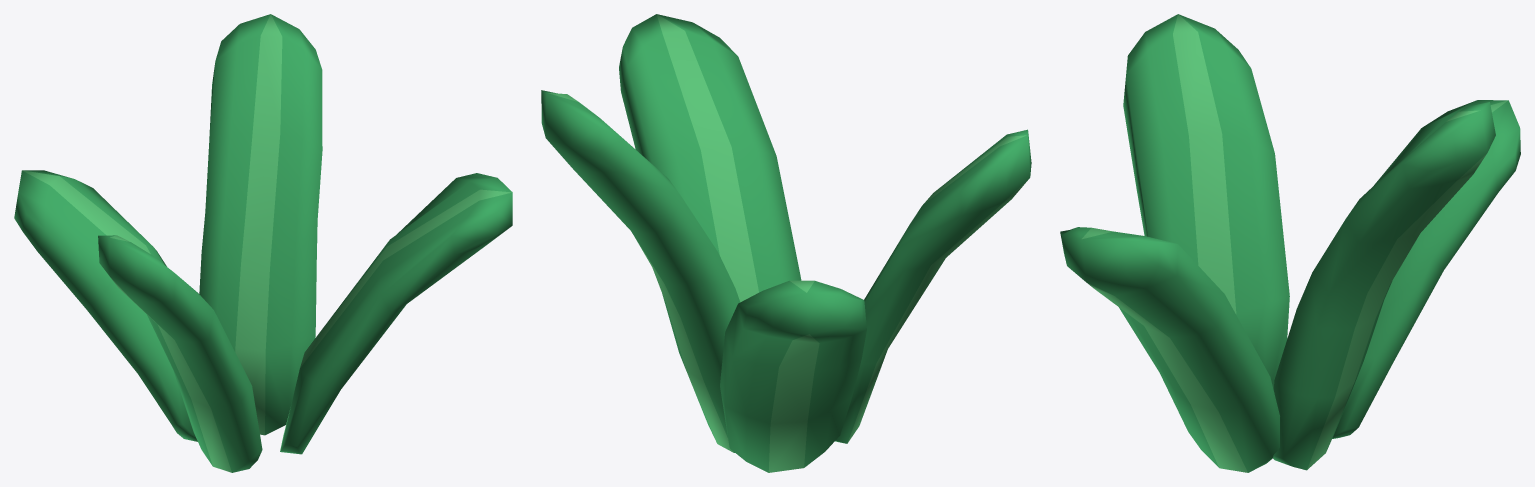
Rendered from Flora_B_02_LOD2.gltf.
The picture shows the model from 3 angles, left to right: view 1: azimuth 30°, elevation 25°; view 2: azimuth 150°, elevation 25°; view 3: azimuth 270°, elevation 25°; orthographic projection. The views are drawn at different scales.
Visible parts, largest first — view 1: Flora_B_02_LOD2_Plane.041; view 2: Flora_B_02_LOD2_Plane.041; view 3: Flora_B_02_LOD2_Plane.041.
Part boxes in pixels (bbox=[...]): Flora_B_02_LOD2_Plane.041: bbox=[14, 14, 512, 472]; Flora_B_02_LOD2_Plane.041: bbox=[541, 14, 1031, 472]; Flora_B_02_LOD2_Plane.041: bbox=[1060, 14, 1520, 472].
Bounding box in the file's own units: 3.49 × 3.08 × 3.18.
1 material, 1 textured.
